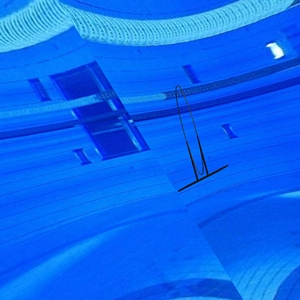circle: (169, 83, 230, 195)
